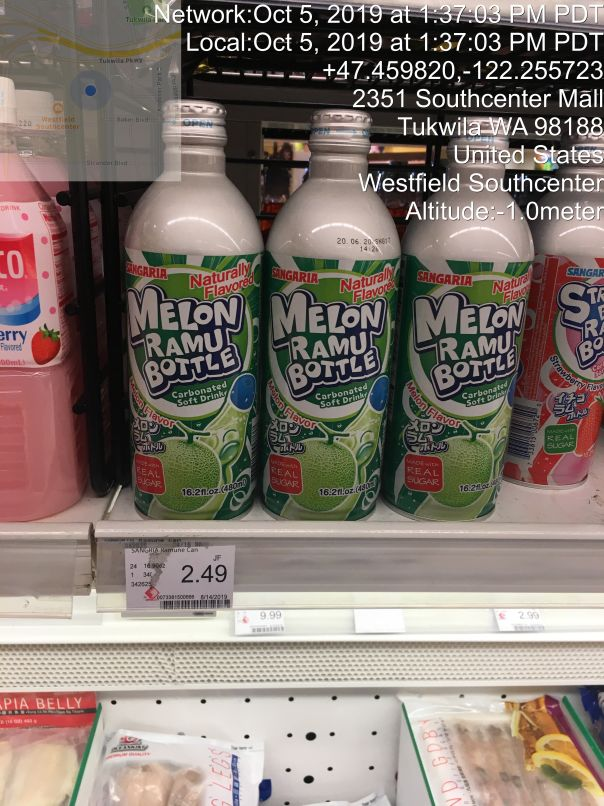Label: (112, 537, 246, 623)
Location: (343, 77, 602, 237)
Melon Ramu Bottle: (107, 82, 266, 522), (402, 90, 535, 522), (260, 77, 387, 521)
Time: (149, 1, 603, 57)
